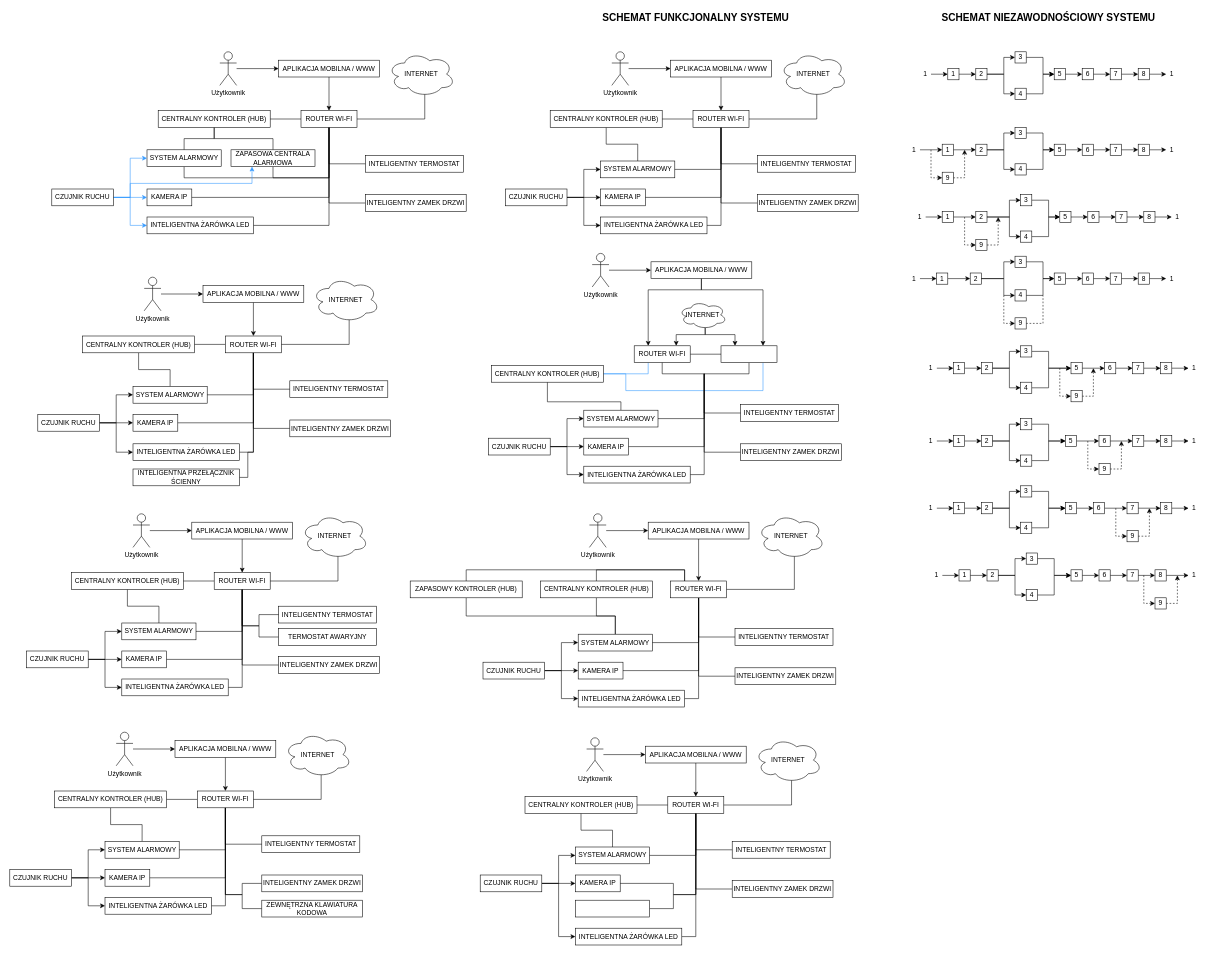
Image size: 1210x955. Some labels were removed from this diagram. The shapes that lost their labels are listed below. From the top down, each one's centre as x and y in pixels, then its label:
At [748,354]: "ZAPASOWY ROUTER WI-FI".
At [612,908]: "CZUJNIK RUCHU Z KAMERĄ".
